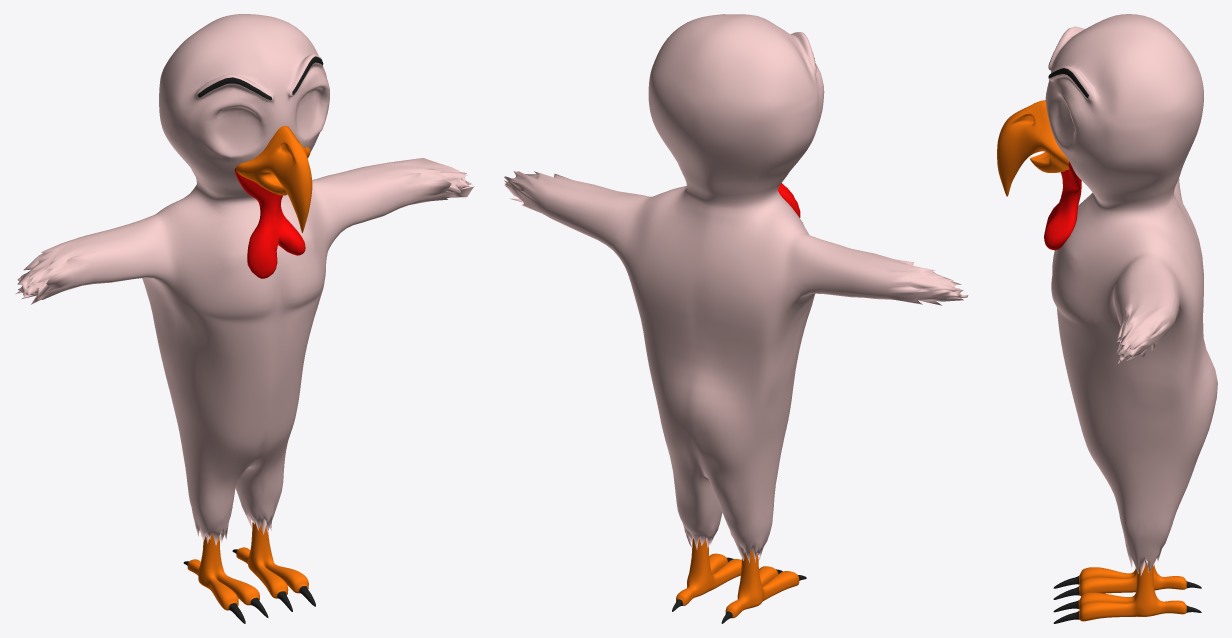
File: Mage_Body.fbx
3 renders of one model, left to right at view 1: azimuth 30°, elevation 25°; view 2: azimuth 150°, elevation 25°; view 3: azimuth 270°, elevation 25°, orthographic. The views are drawn at different scales.
Parts seen in each view (by area): view 1: Mage_Chicken; view 2: Mage_Chicken; view 3: Mage_Chicken.
Boxes of the visible parts, x1=… form: Mage_Chicken: x1=14, y1=14, x2=474, y2=623; Mage_Chicken: x1=504, y1=14, x2=968, y2=623; Mage_Chicken: x1=997, y1=14, x2=1217, y2=623.
Bounding box in the file's own units: 282 × 336 × 115.
